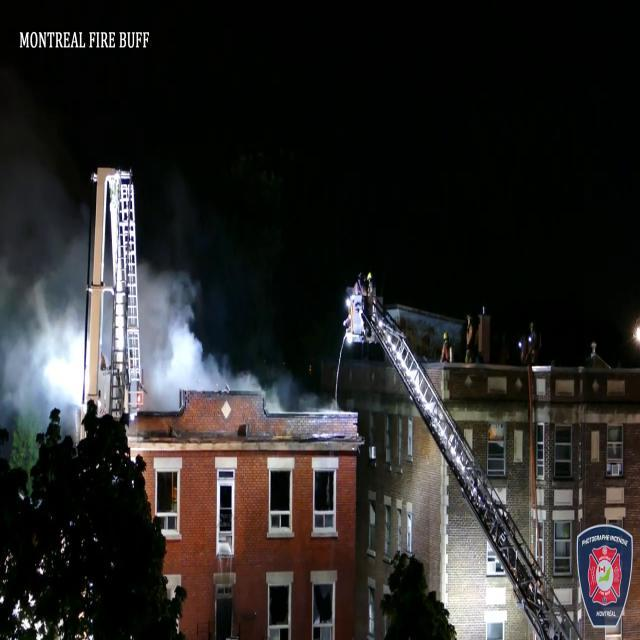Smoke: (0, 0, 232, 409)
